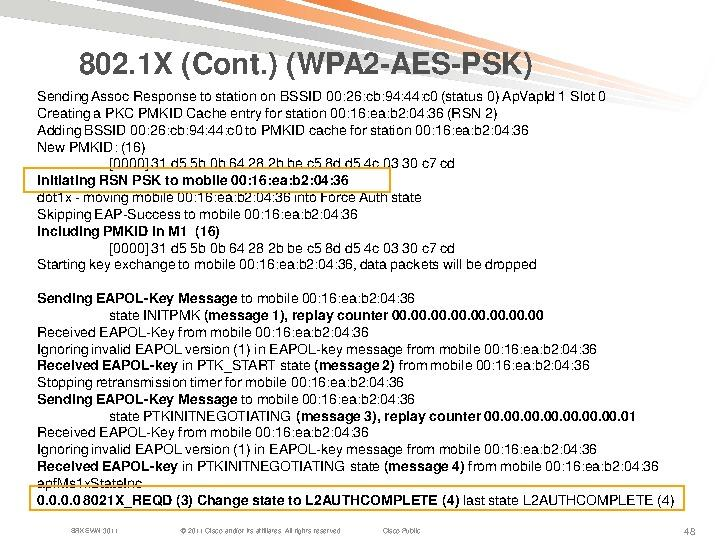paragraph: (21, 82, 700, 518)
title: (68, 31, 552, 85)
